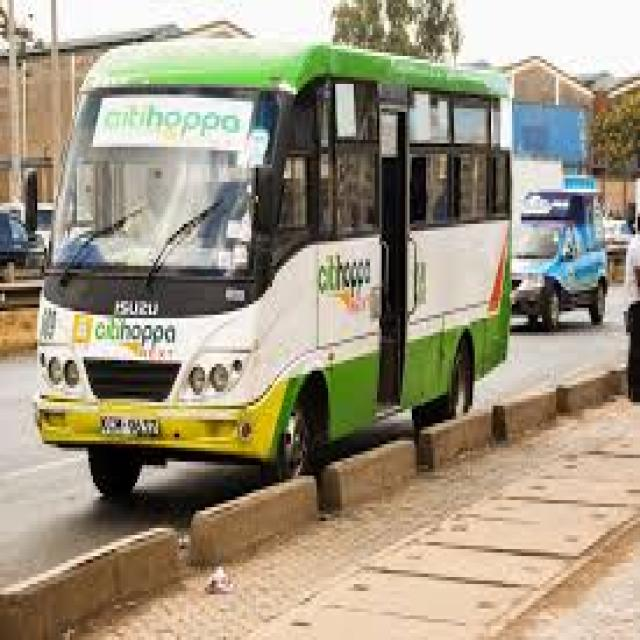bus: (8, 12, 542, 506)
